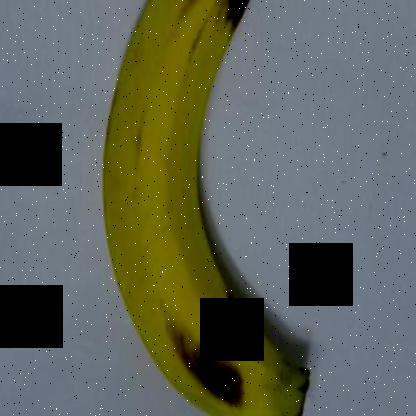freshripe: (85, 1, 322, 416)
